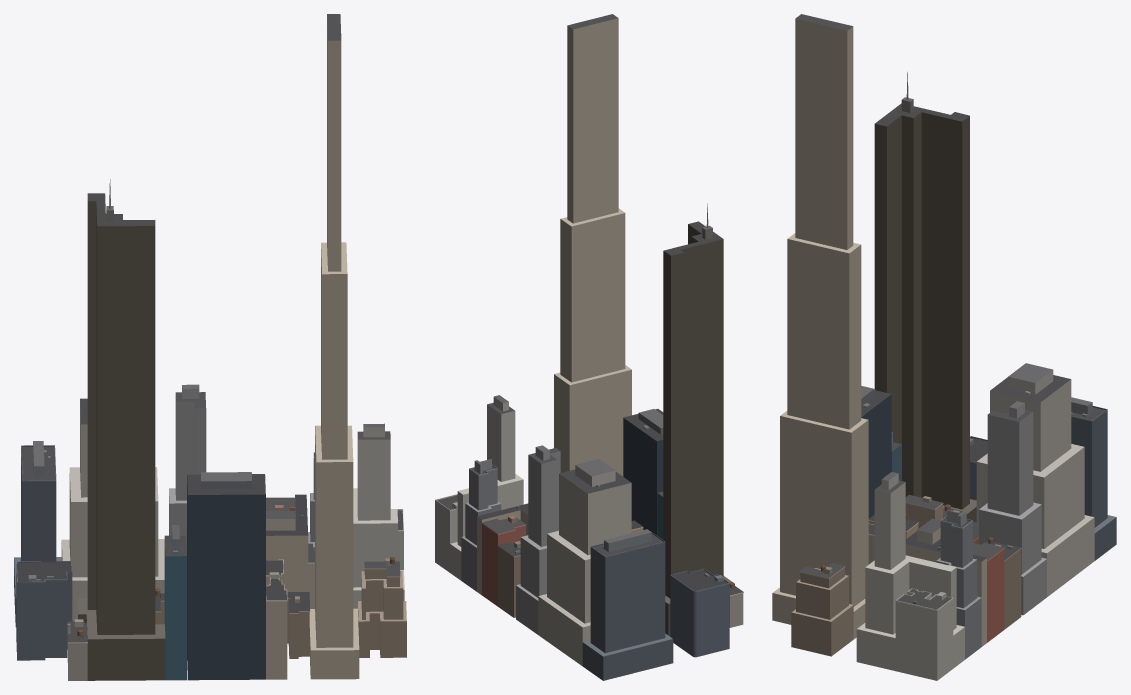
File: 2_3.bld.glb
The picture shows the model from 3 angles, left to right: view 1: azimuth 30°, elevation 25°; view 2: azimuth 150°, elevation 25°; view 3: azimuth 270°, elevation 25°; orthographic projection. The views are drawn at different scales.
Visible parts, largest first — view 1: 2_3; view 2: 2_3; view 3: 2_3.
Boxes of the visible parts, x1=… form: 2_3: x1=14, y1=14, x2=406, y2=680; 2_3: x1=435, y1=14, x2=743, y2=680; 2_3: x1=772, y1=14, x2=1116, y2=680.
Size of the model in its own units: 266 by 435 by 227.
